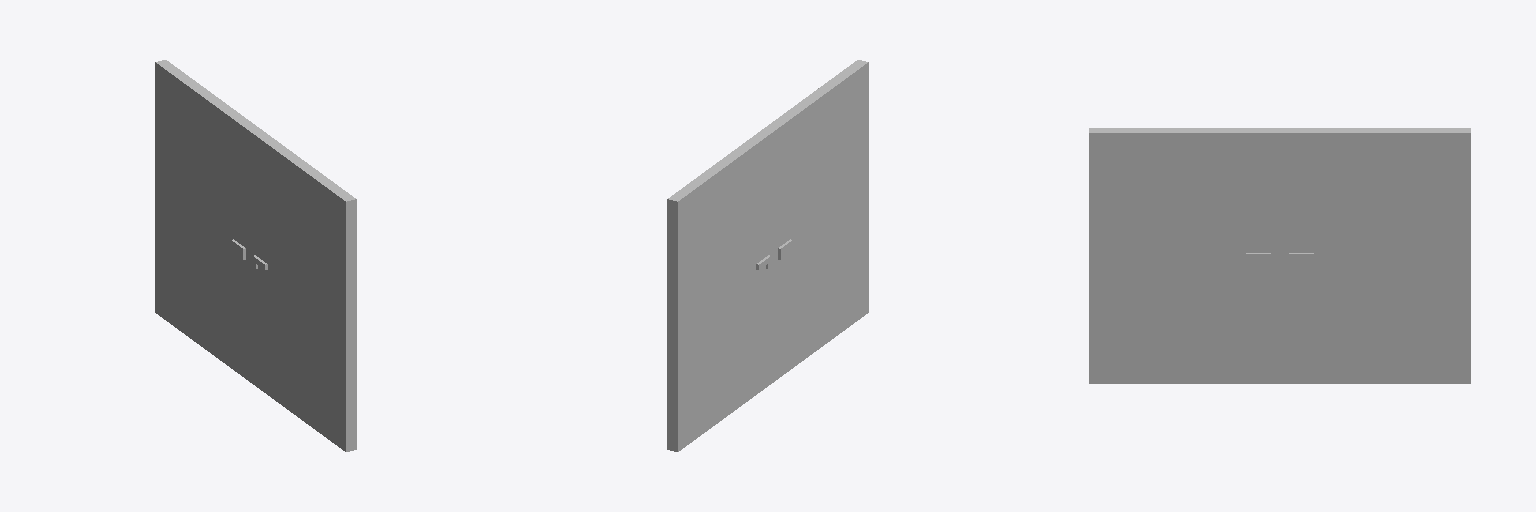
The model's file is DoubleDoor.obj.
3 renders of one model, left to right at view 1: azimuth 30°, elevation 25°; view 2: azimuth 150°, elevation 25°; view 3: azimuth 270°, elevation 25°, orthographic.
Parts seen in each view (by area): view 1: object 1; view 2: object 1; view 3: object 1.
Boxes of the visible parts, box(x1,y1,x2,y2) form: object 1: box(155, 60, 356, 451); object 1: box(667, 60, 868, 451); object 1: box(1089, 128, 1470, 383).
Bounding box in the file's own units: 0.6 × 9 × 12.4.